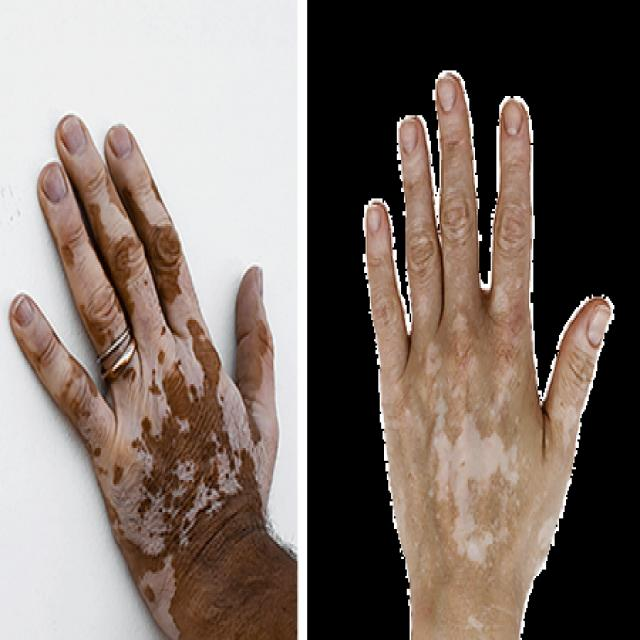vitiligo: (65, 253, 273, 622), (423, 276, 528, 606)
